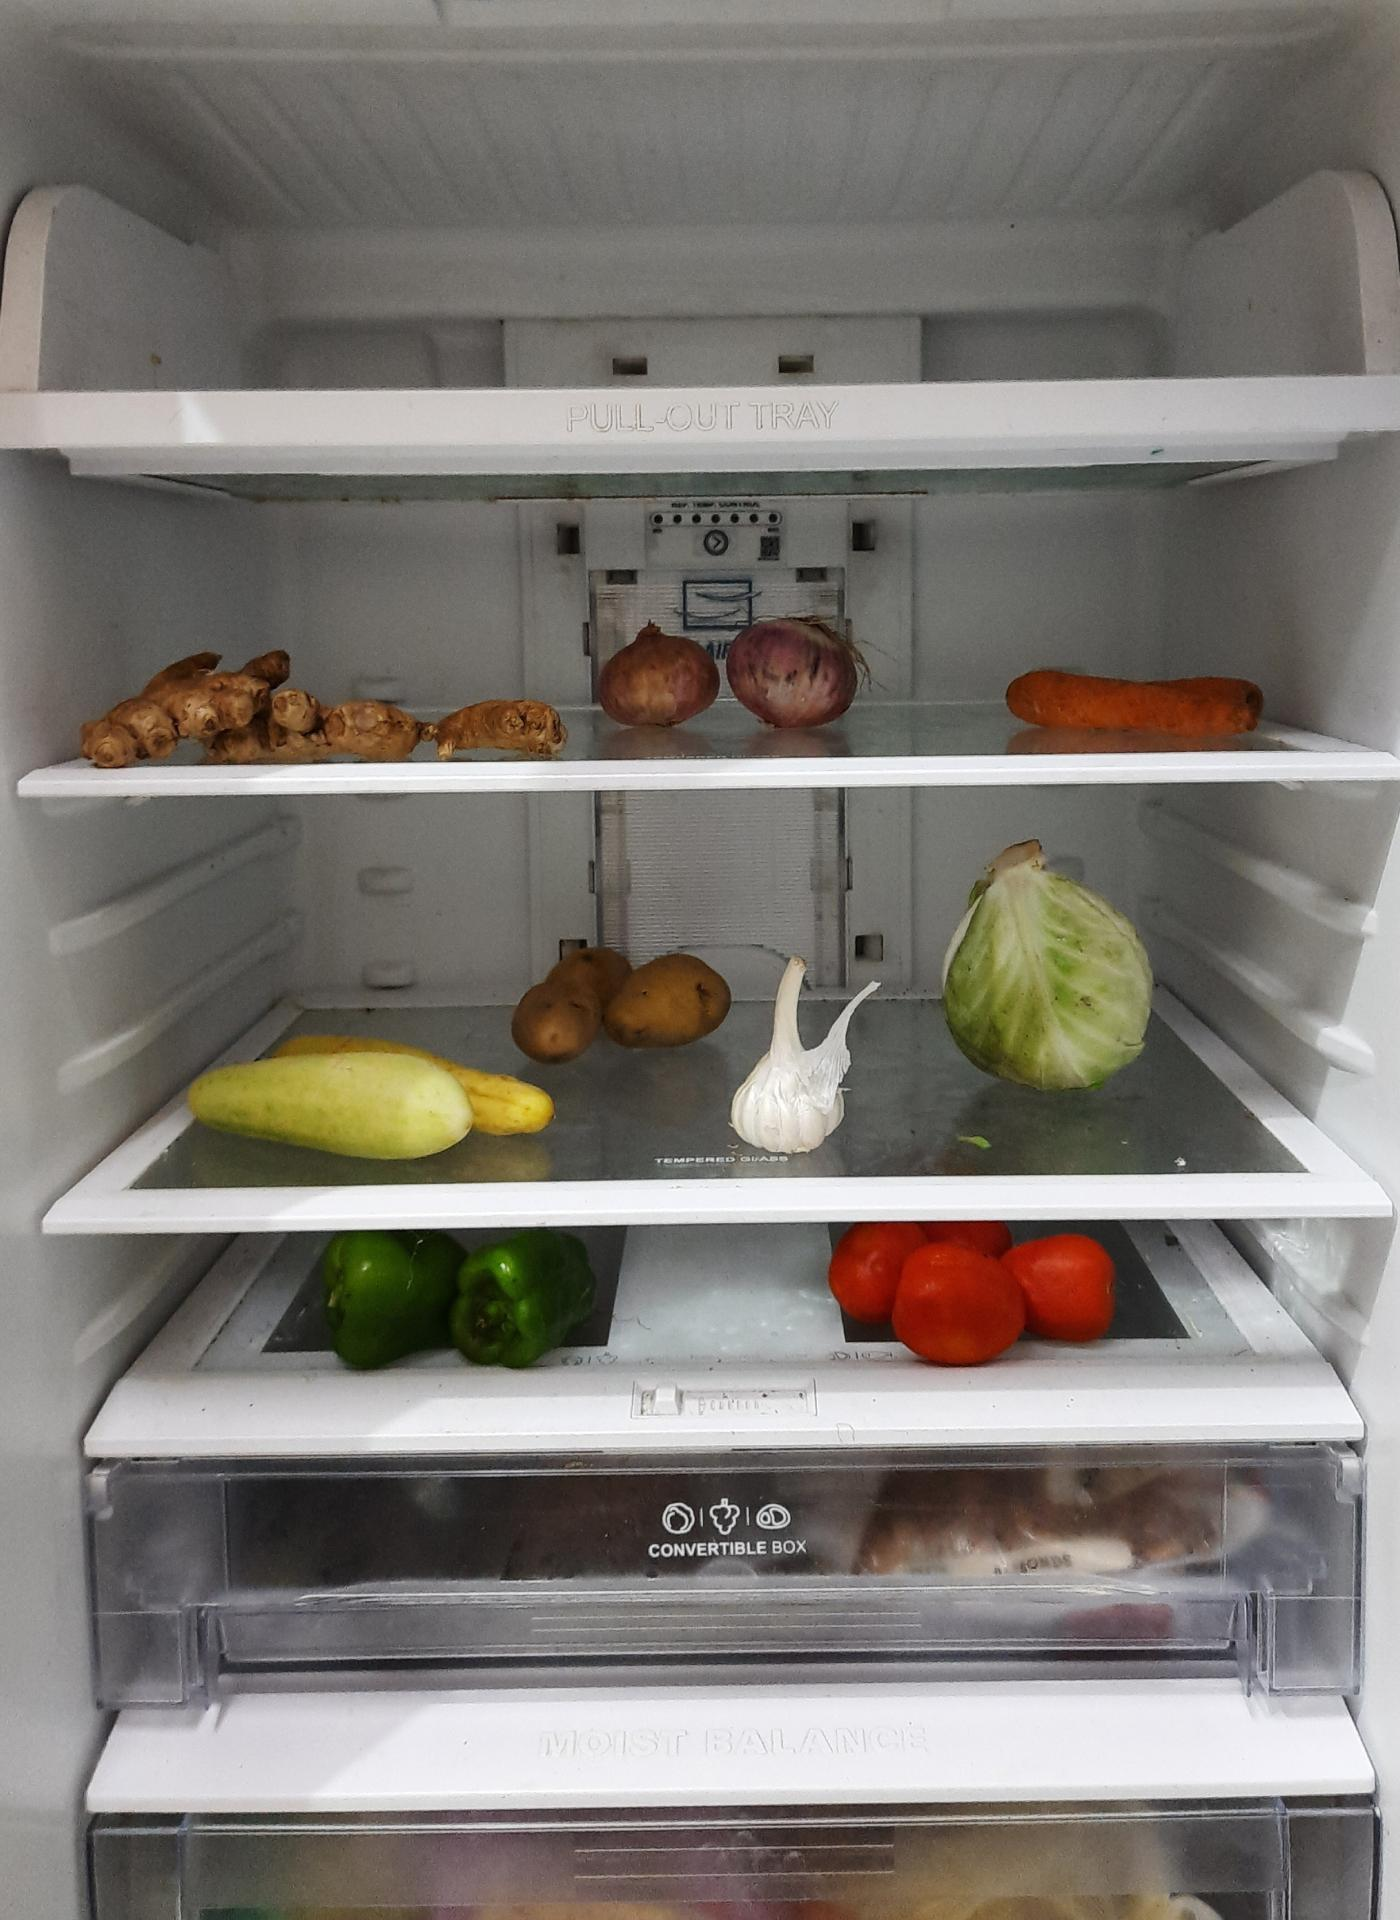cabbage: (942, 853, 1157, 1094)
capsicum: (318, 1233, 604, 1371)
carrots: (1005, 665, 1272, 750)
cucumber: (167, 1036, 561, 1155)
garlic: (734, 948, 865, 1154)
ginger: (82, 645, 565, 765)
onion: (601, 604, 860, 723)
potato: (516, 944, 740, 1064)
tomato: (830, 1221, 1129, 1358)
